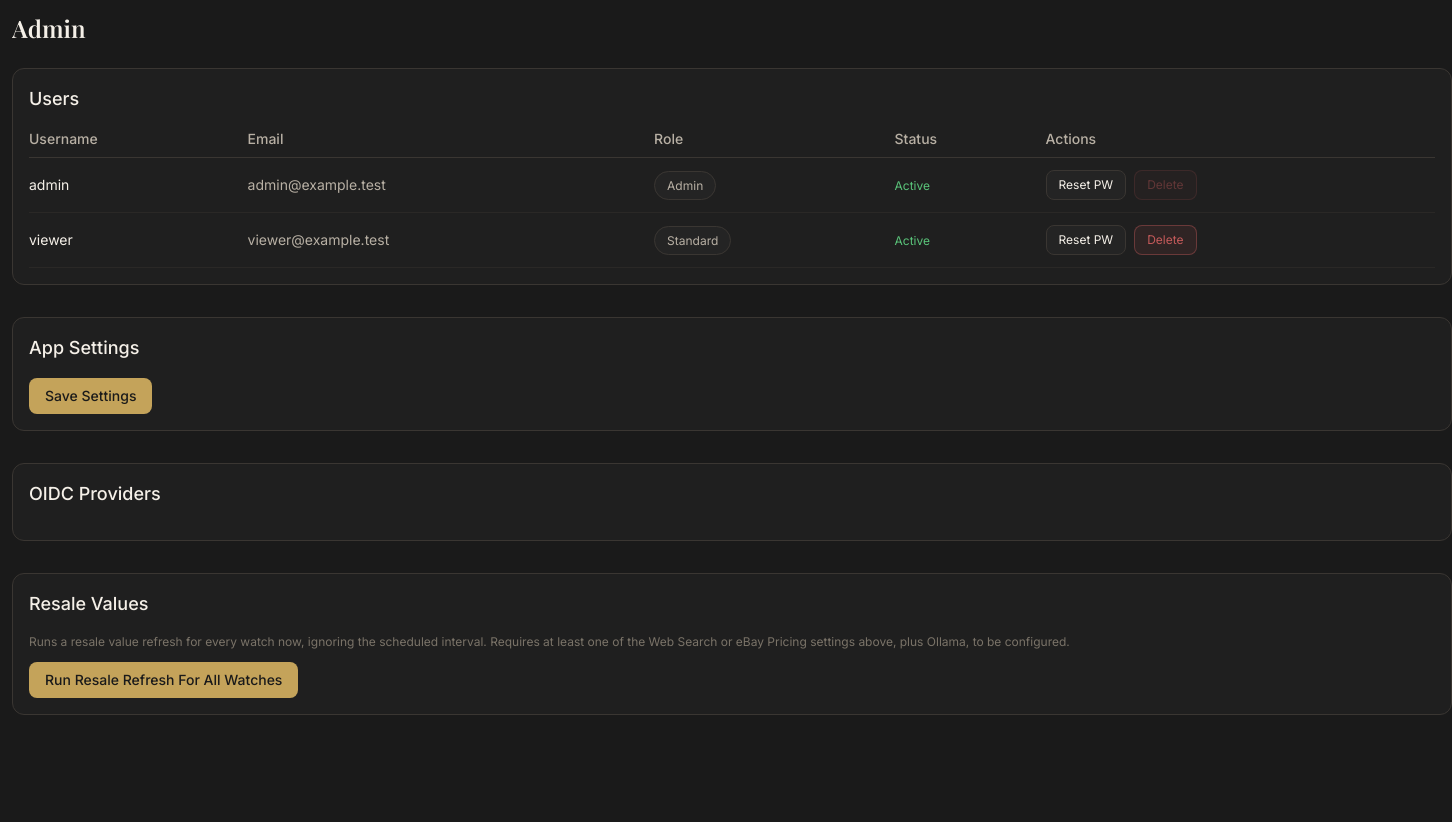
Admin Ollama settings › confirms and deletes another user from the user table
Expected: the button "Delete" in the row of "admin@example.test" is disabled, x1=1134 y1=170 x2=1197 y2=200
Click the button "Delete" in the row of "viewer@example.test" at (1165, 240), box x1=1134 y1=225 x2=1197 y2=255
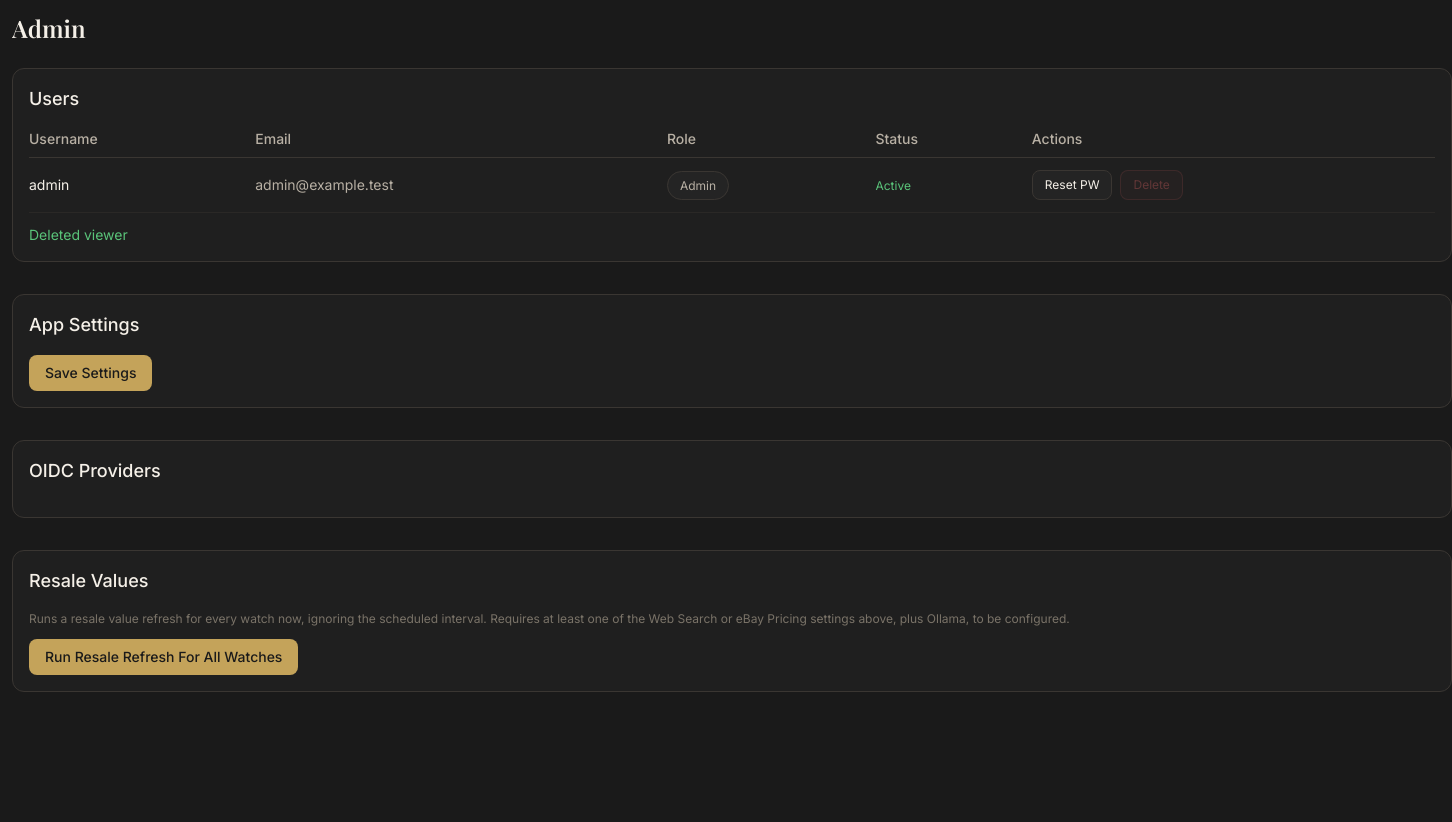
Expected: the text "viewer@example.test" is gone
Expected: the text "Deleted viewer" is shown, x1=29 y1=226 x2=128 y2=243
